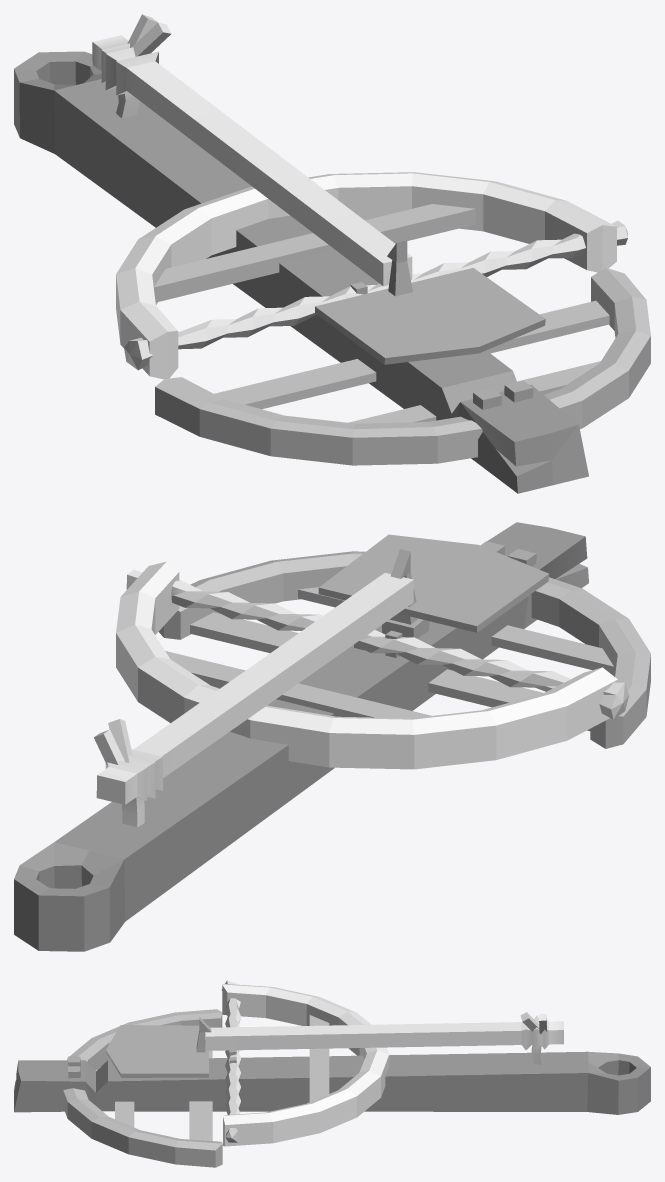
File: PT_Trap_02.fbx
3 renders of one model, top to bottom at view 1: azimuth 30°, elevation 25°; view 2: azimuth 150°, elevation 25°; view 3: azimuth 270°, elevation 25°, orthographic. The views are drawn at different scales.
Visible parts, largest first — view 1: PT_Trap_02_frame, PT_Trap_02_jaw, PT_Trap_02_trigger, PT_Trap_02_bridge; view 2: PT_Trap_02_frame, PT_Trap_02_jaw, PT_Trap_02_trigger, PT_Trap_02_bridge; view 3: PT_Trap_02_frame, PT_Trap_02_jaw, PT_Trap_02_trigger, PT_Trap_02_bridge.
Boxes of the visible parts, bbox=[...] form: PT_Trap_02_frame: bbox=[14, 51, 650, 493]; PT_Trap_02_jaw: bbox=[116, 172, 627, 379]; PT_Trap_02_trigger: bbox=[92, 14, 412, 286]; PT_Trap_02_bridge: bbox=[315, 240, 545, 364]; PT_Trap_02_frame: bbox=[14, 522, 650, 951]; PT_Trap_02_jaw: bbox=[116, 561, 629, 769]; PT_Trap_02_trigger: bbox=[94, 572, 413, 827]; PT_Trap_02_bridge: bbox=[318, 534, 549, 632]; PT_Trap_02_frame: bbox=[14, 998, 650, 1167]; PT_Trap_02_jaw: bbox=[221, 980, 389, 1146]; PT_Trap_02_trigger: bbox=[205, 1012, 563, 1064]; PT_Trap_02_bridge: bbox=[106, 1017, 211, 1077].
Bounding box in the file's own units: 44.81 × 13.29 × 80.39.
1 material, 1 textured.
